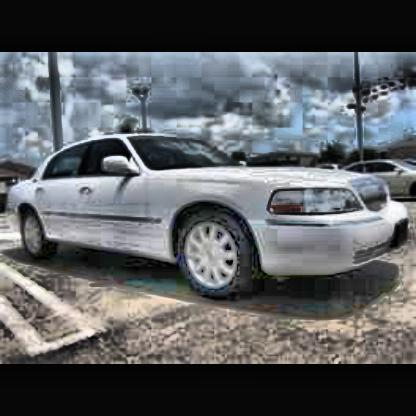Lincoln Town Car Sedan 2011: (6, 133, 415, 303)
